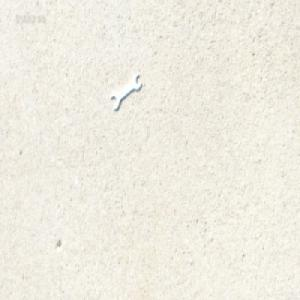Wrench: (111, 72, 143, 110)
